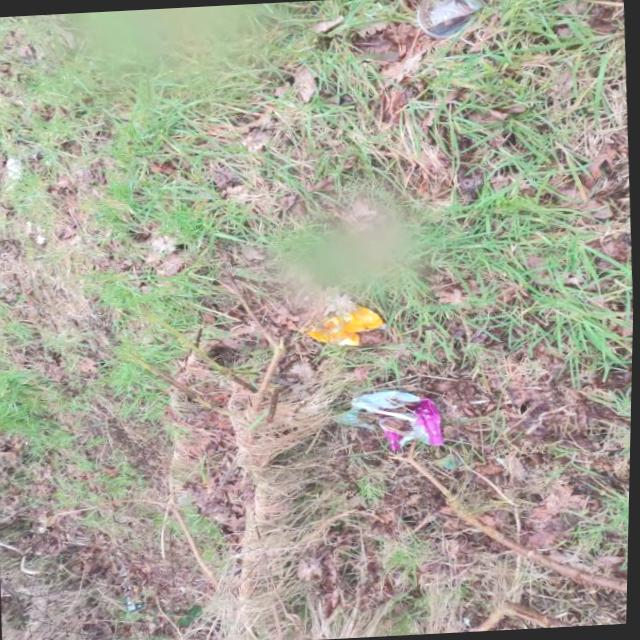Plastic: (333, 386, 448, 454), (298, 302, 391, 349), (123, 578, 145, 611)
